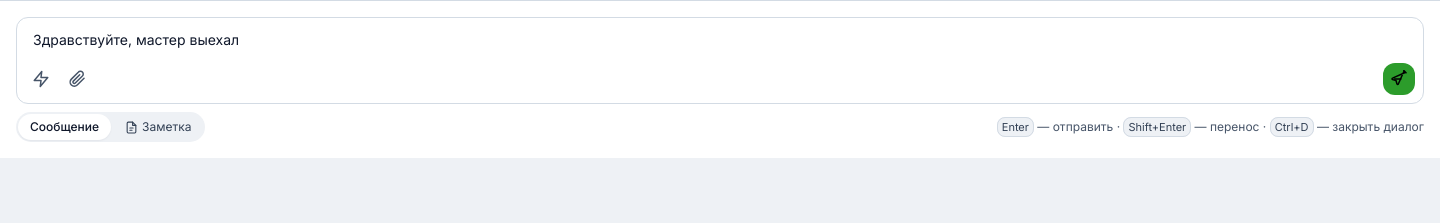
Test case: Композер после 422 «диалог закрыт» › плашка уходит и когда диалог уже открыл кто-то другой
Type "Мастер выехал" into the text box at point(720, 40), box [25,26,1415,54]
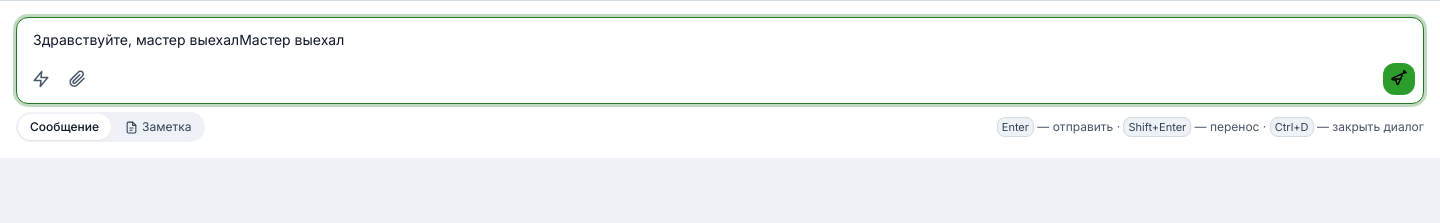
Click the button named "Отправить" at point(1399, 79), box [1383,63,1415,95]
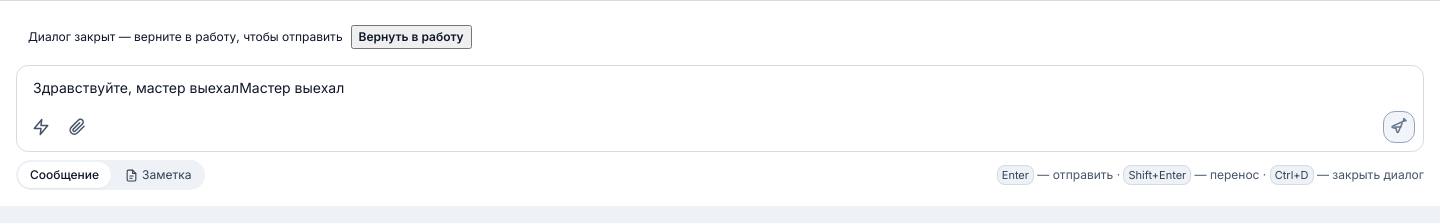
Result: the text "Диалог закрыт — верните в работу, чтобы отправить Вернуть в работу" is shown at [28,25,472,49]
Click the button "Вернуть в работу" at point(411, 37), box [351,25,472,49]
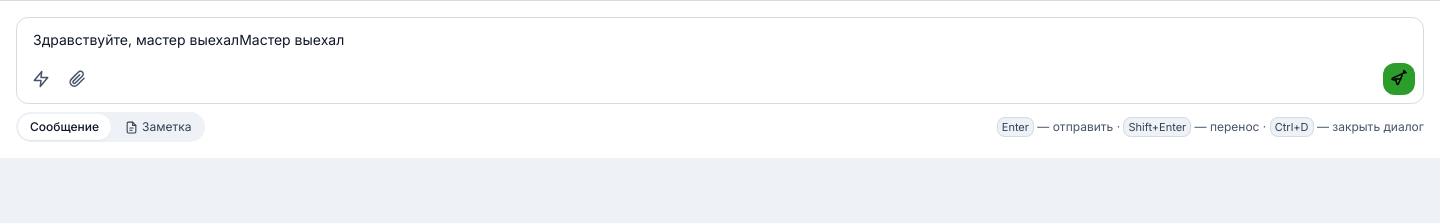
Expected: the text box is shown, [25,26,1415,54]
Result: the text "Диалог закрыт — верните в работу" is gone
